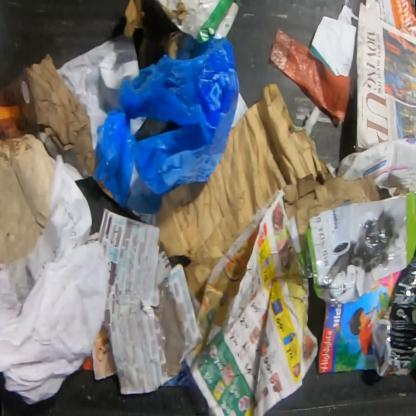cardboard: (154, 82, 328, 298), (282, 170, 412, 252), (122, 0, 240, 68)
soft_plastic: (91, 32, 241, 211), (297, 192, 416, 306), (269, 26, 352, 124), (370, 244, 415, 382)
